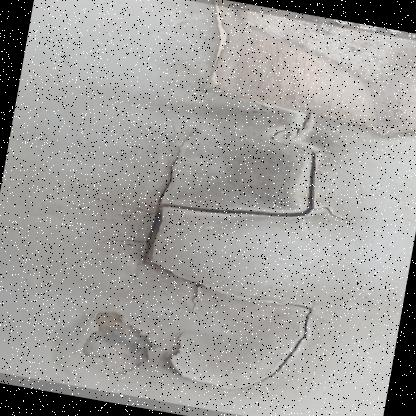Crack: (43, 108, 391, 415), (165, 0, 415, 173)
